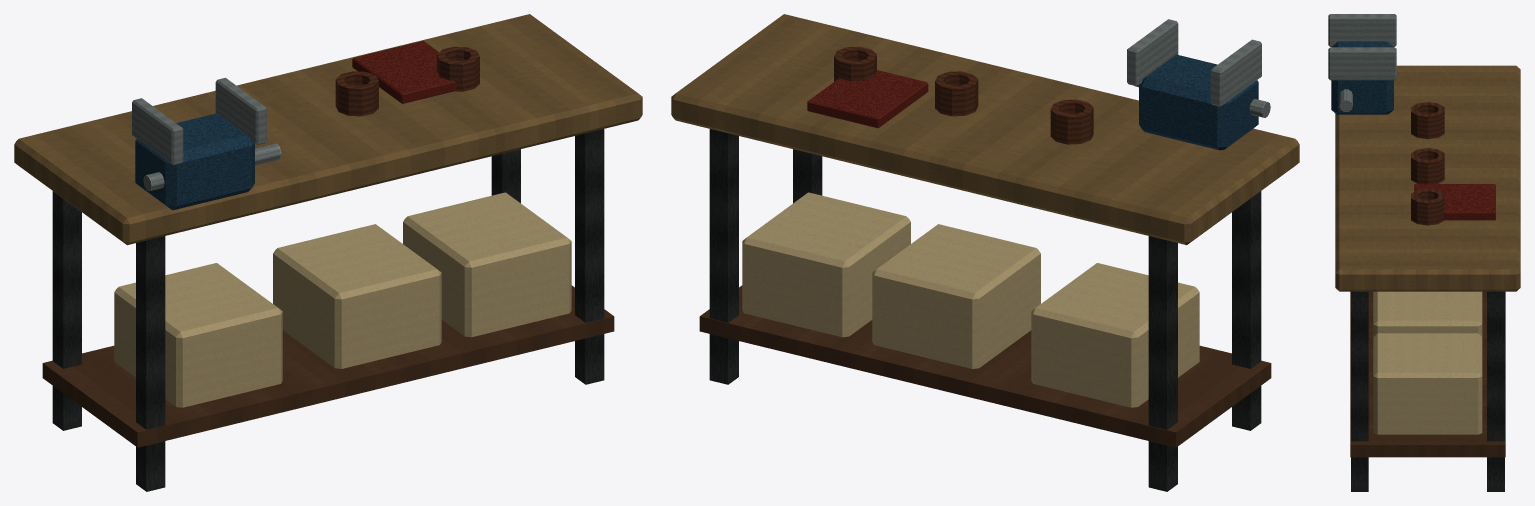
The model's file is level_workbench.glb.
3 views of the same model, side by side, from view 1: azimuth 30°, elevation 25°; view 2: azimuth 150°, elevation 25°; view 3: azimuth 270°, elevation 25° (orthographic). The views are drawn at different scales.
Visible parts, largest first — view 1: level_workbench; view 2: level_workbench; view 3: level_workbench.
Part boxes in pixels (x1=…): level_workbench: x1=14, y1=14, x2=642, y2=491; level_workbench: x1=671, y1=14, x2=1299, y2=491; level_workbench: x1=1328, y1=14, x2=1520, y2=491.
Bounding box in the file's own units: 1.8 × 1.22 × 0.705.
Materials: 8 (8 with a texture image).
